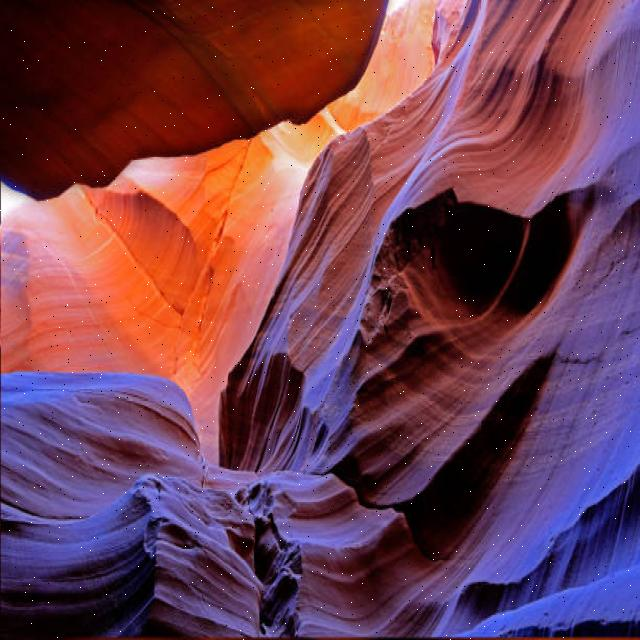Sedimentary: (2, 1, 640, 637)
